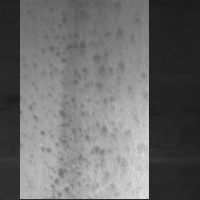pitted_surface: (20, 0, 149, 199)
scratches: (117, 37, 133, 169), (15, 142, 111, 158)
